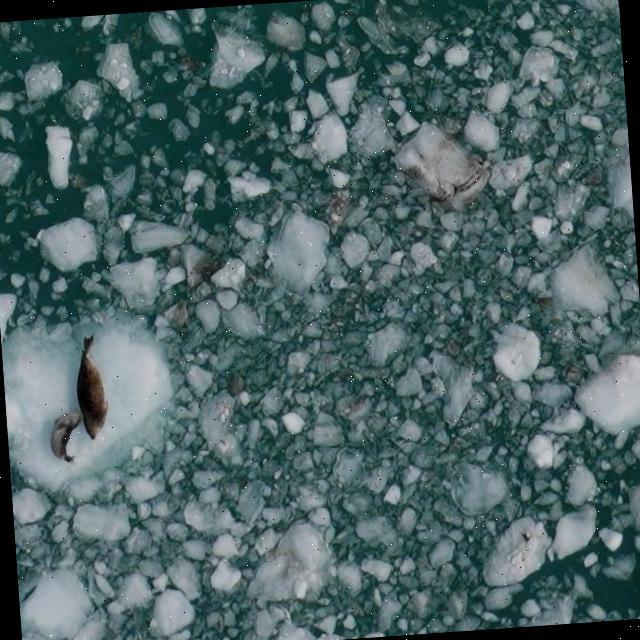seal: (68, 334, 114, 442), (46, 407, 84, 464)
